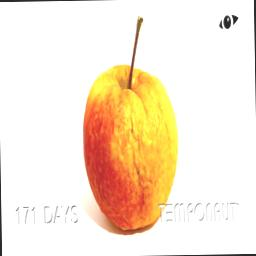Apple Overripe: (78, 10, 184, 236)
